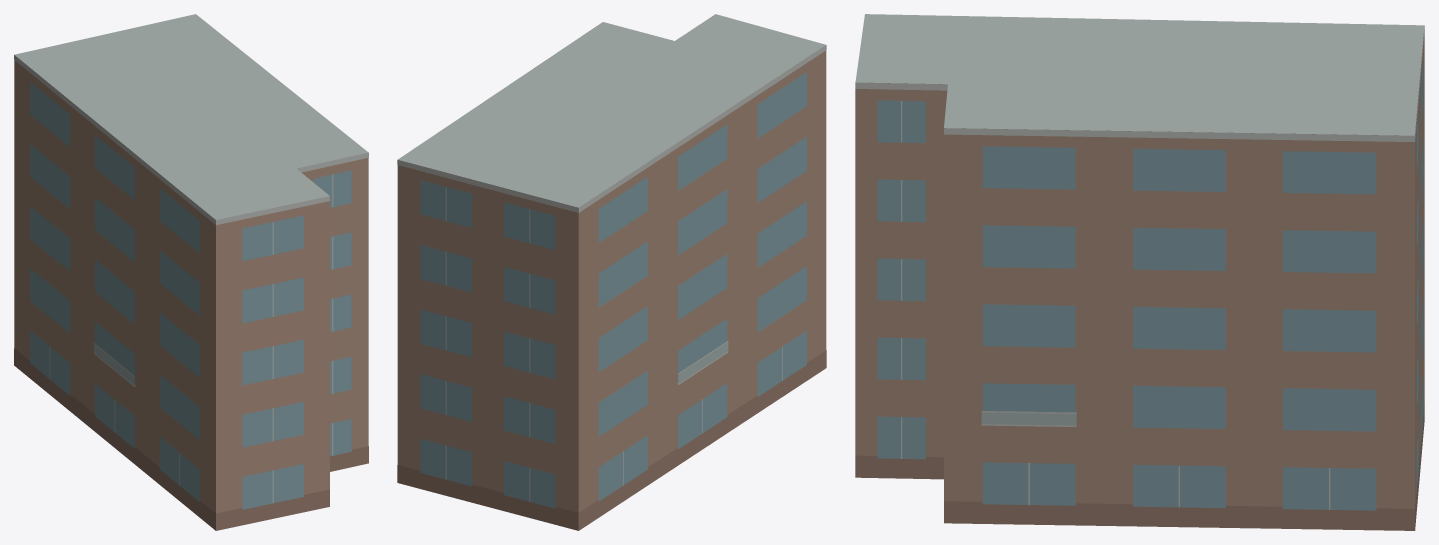
The model's file is survey-upis-32774128.glb.
3 renders of one model, left to right at view 1: azimuth 30°, elevation 25°; view 2: azimuth 150°, elevation 25°; view 3: azimuth 270°, elevation 25°, orthographic. The views are drawn at different scales.
Visible parts, largest first — view 1: survey-upis-32774128.tmp; view 2: survey-upis-32774128.tmp; view 3: survey-upis-32774128.tmp.
Boxes of the visible parts, x1,y1,x2,y2 form: survey-upis-32774128.tmp: (14,14,368,530); survey-upis-32774128.tmp: (397,14,826,530); survey-upis-32774128.tmp: (855,14,1424,530).
Size of the model in its own units: 9.92 by 15 by 19.59.
